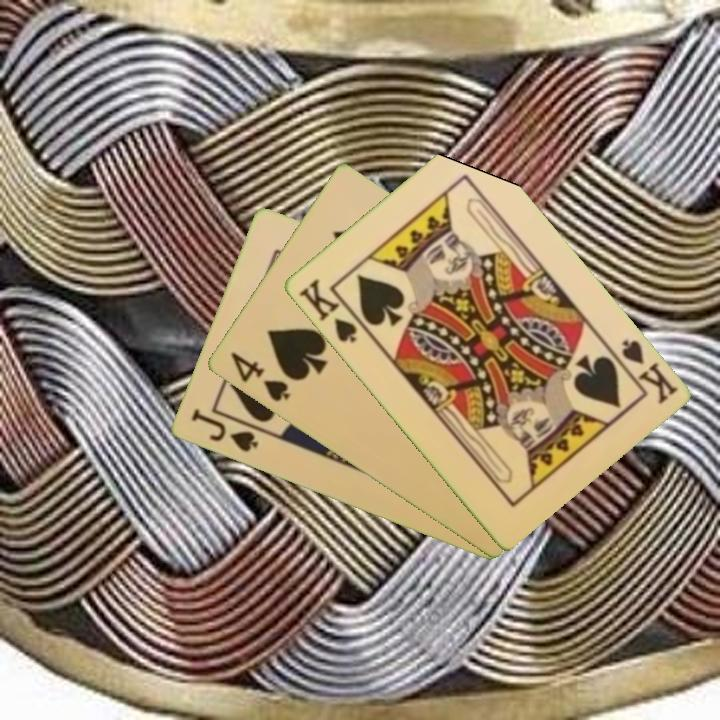4s: (226, 348, 293, 405)
Js: (187, 405, 261, 456)
Ks: (606, 336, 680, 408), (294, 275, 359, 346)
